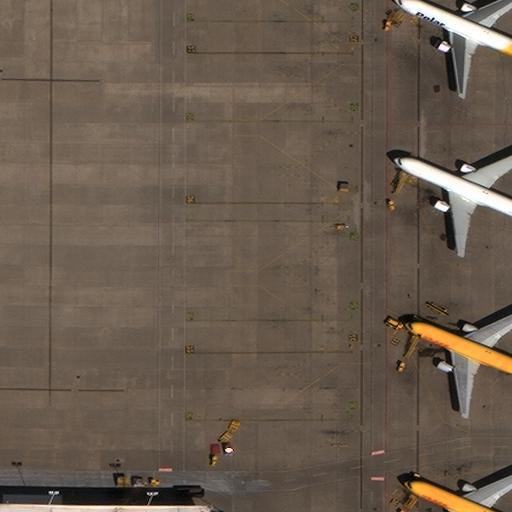Large Civil Transport: (392, 148, 511, 255), (392, 0, 511, 98), (405, 307, 511, 415), (403, 468, 511, 512)
